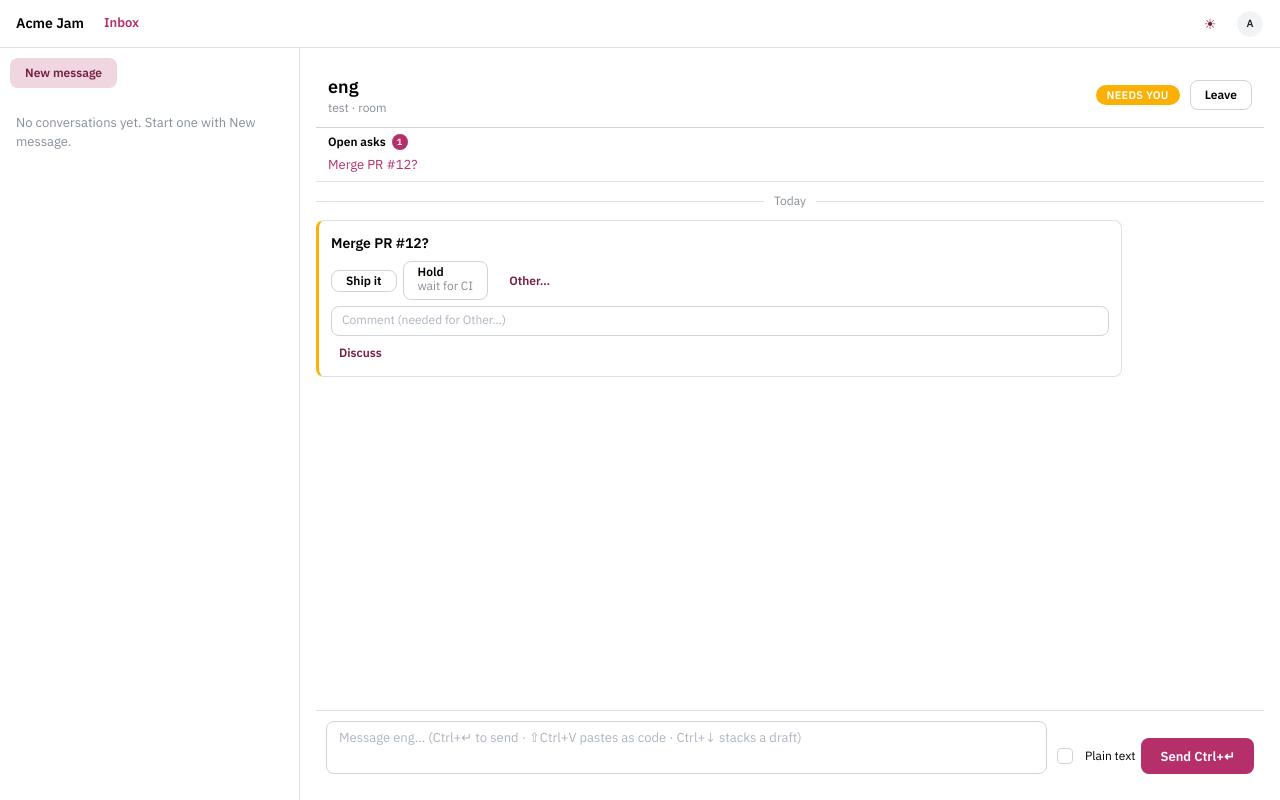
ask cards › answers with an option, then shows the answered state
Expected: the text "wait for CI" is shown, [418, 278, 473, 295]
Type "after lunch" into the text box named "Comment on Merge PR #12?" at (720, 321), box [331, 306, 1109, 336]
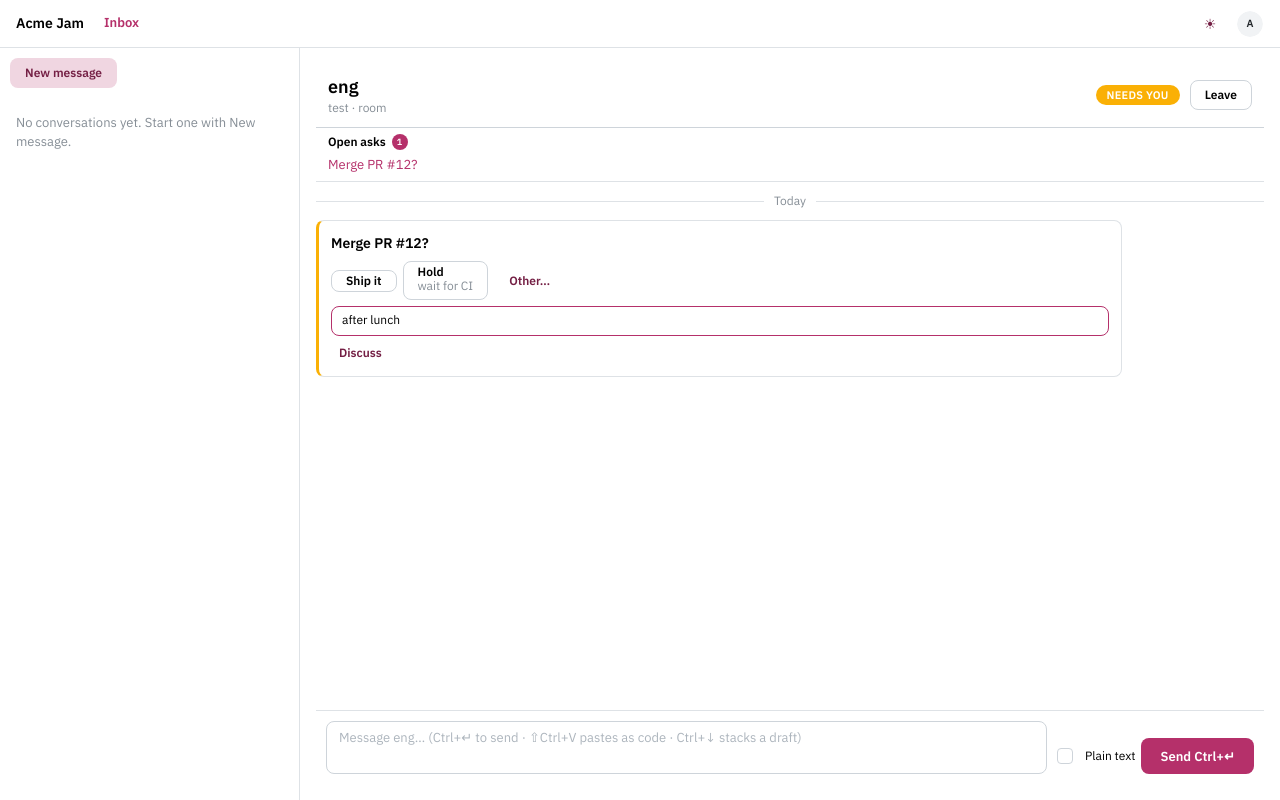
Click the button "Hold wait for CI" at (445, 280), box [402, 261, 488, 300]
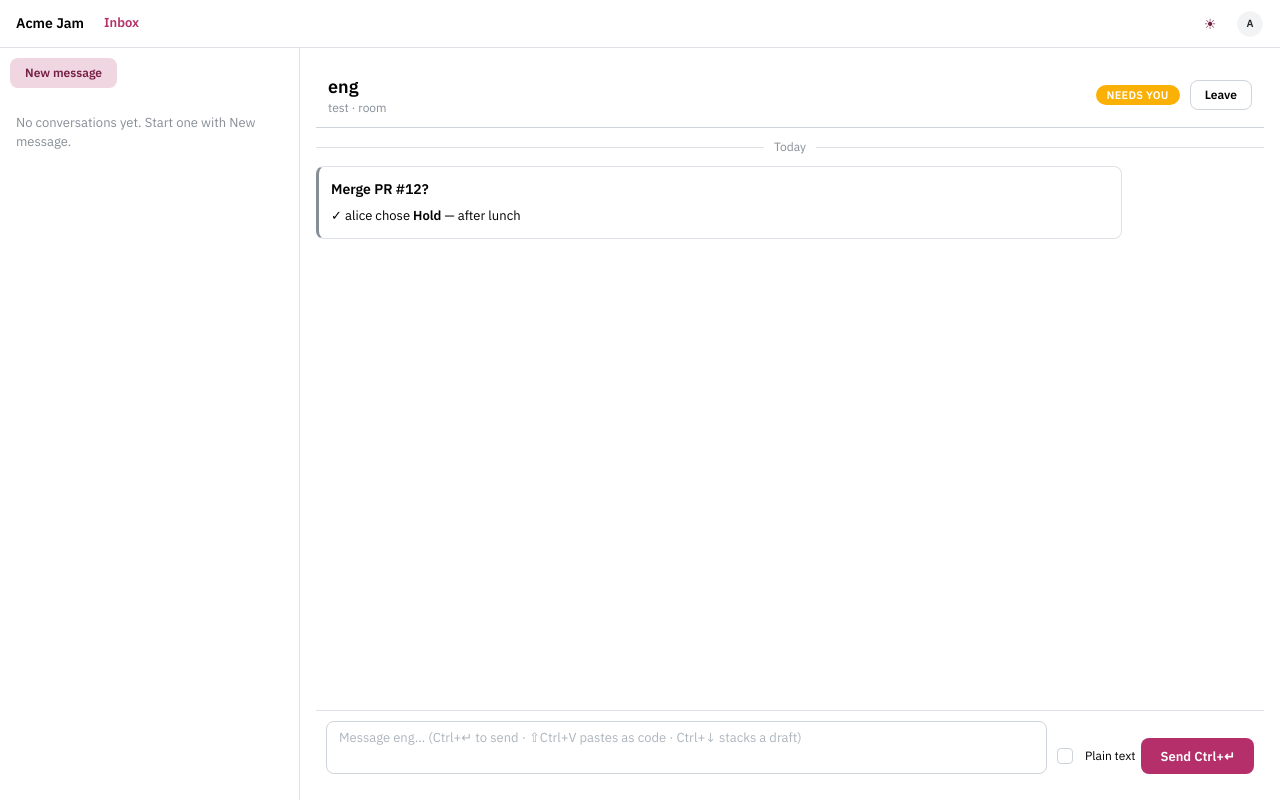
Expected: the text "Hold" is shown, [413, 207, 441, 224]
Expected: the text "✓ alice chose Hold — after lunch" is shown, [331, 207, 521, 224]
Expected: the button "Ship it" is gone
